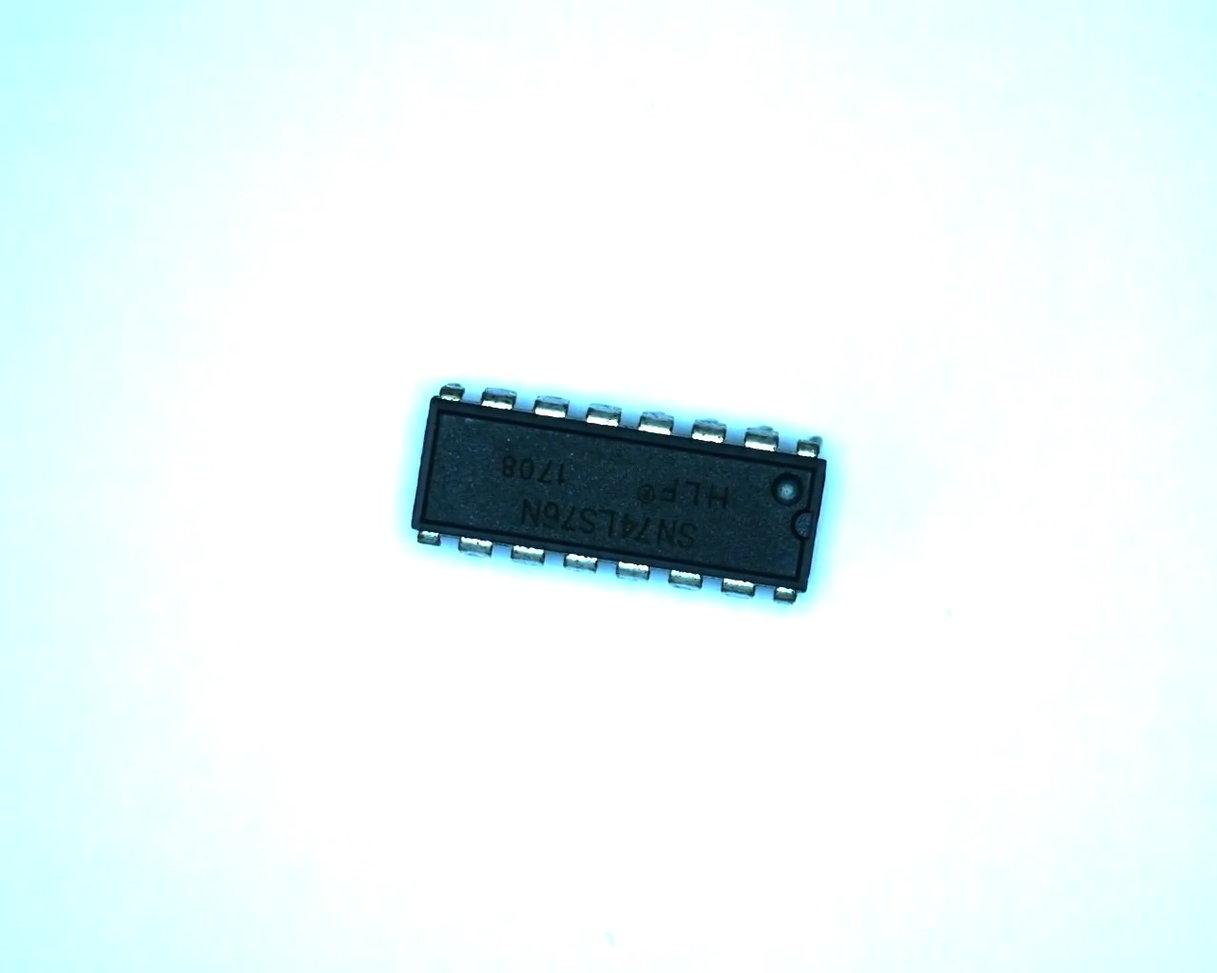IC: (403, 377, 835, 616)
notch: (789, 501, 820, 548)
